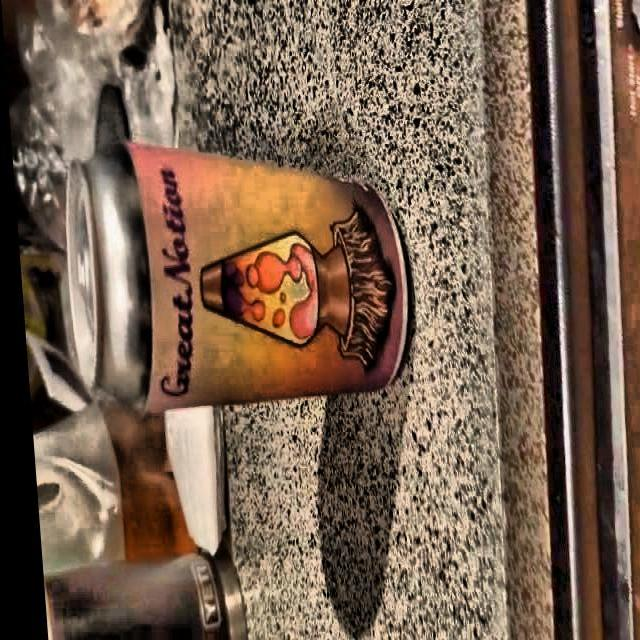litter: (48, 139, 418, 416)
